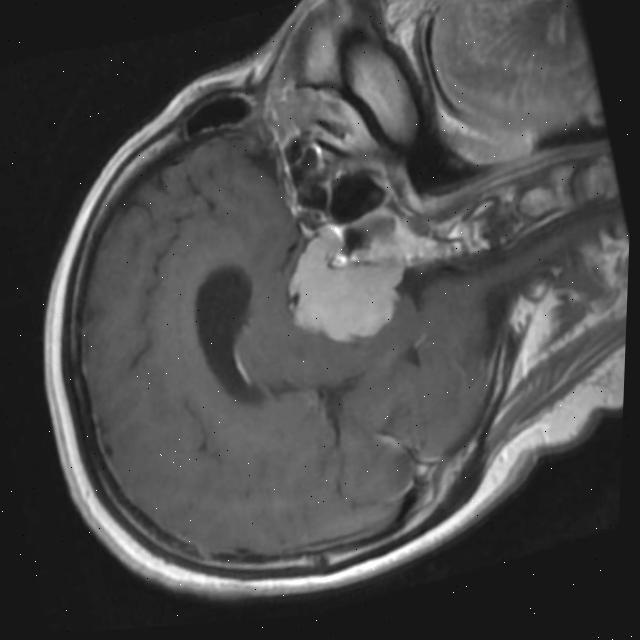Meningioma: (268, 197, 424, 363)
